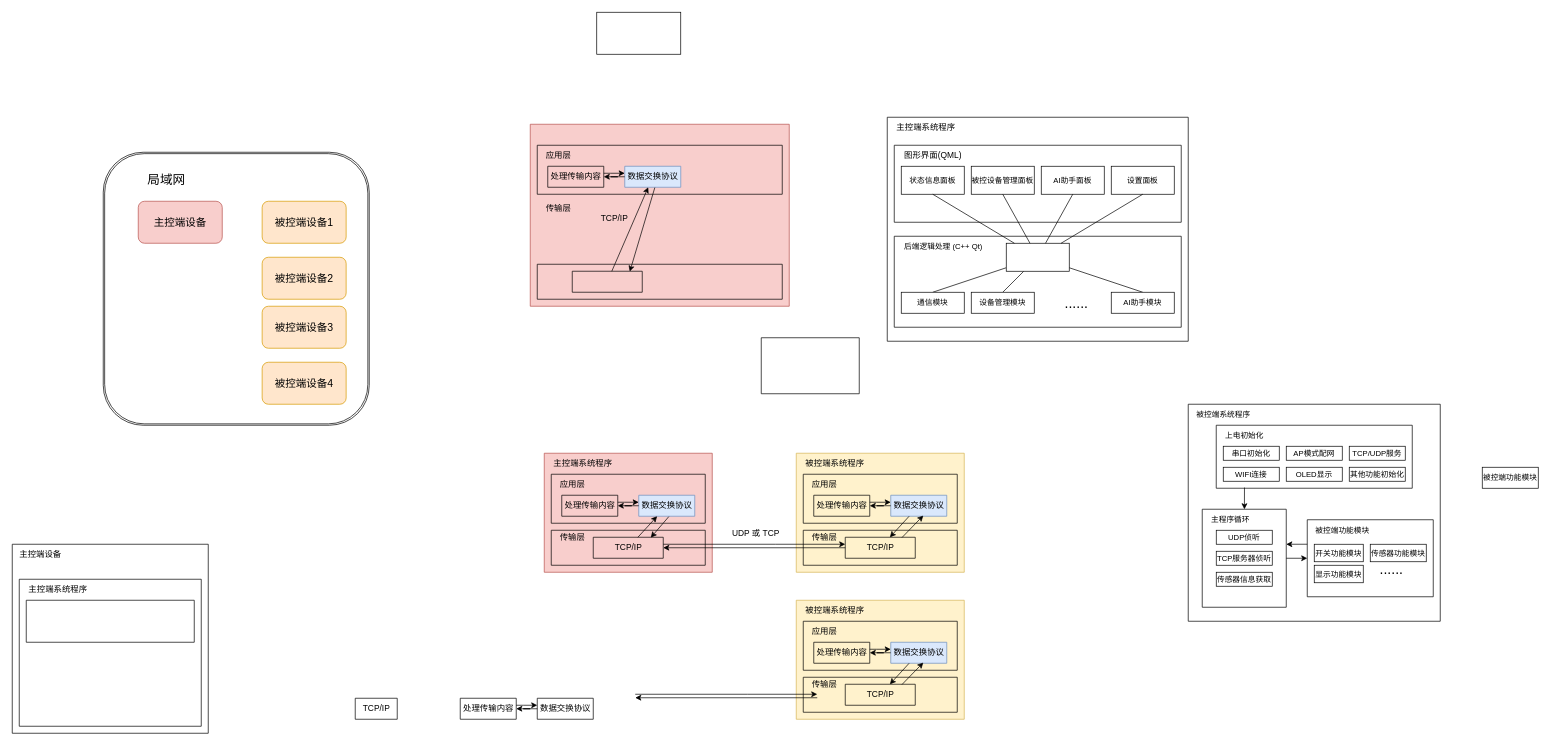
The diagram is 1551 pixels wide and 746 high, and some of its shapes have lost their labels. The shapes that lost their labels are listed below. From the top down, each one's centre as x and y in pixels, then its label:
point (1037, 257): 处理接口
point (110, 621): 图形交互界面
